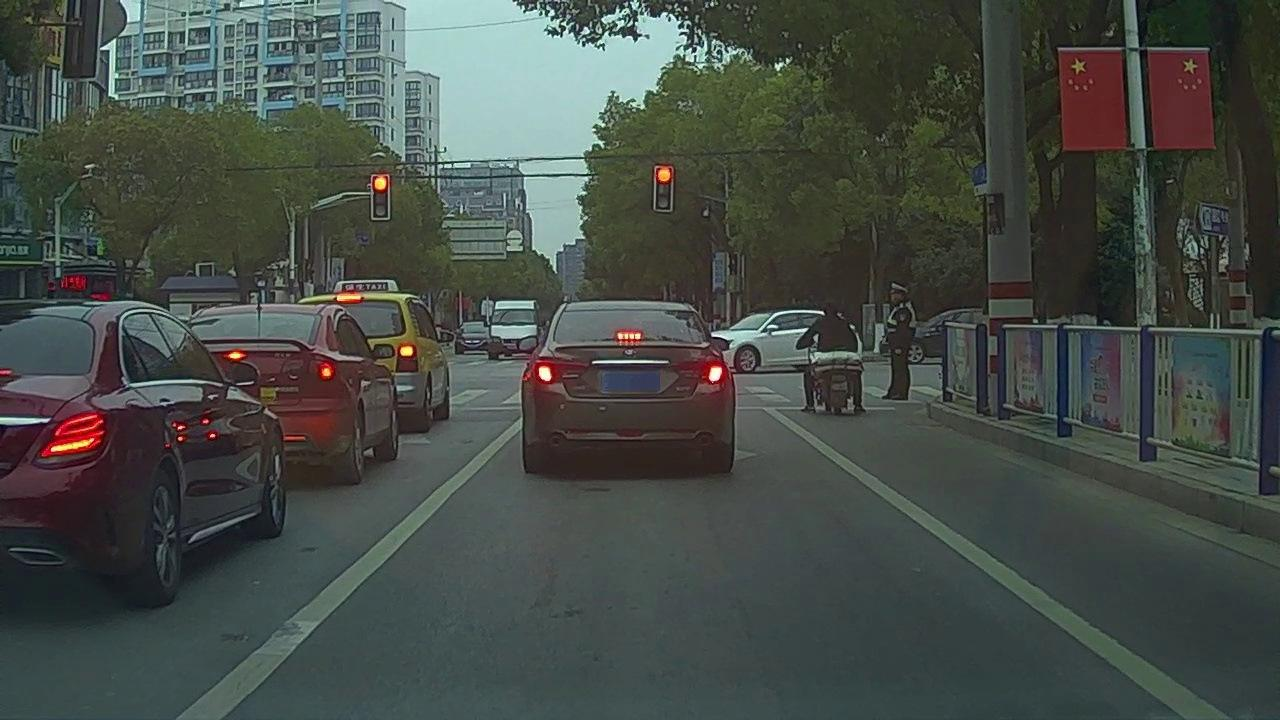traffic_light: (373, 175, 389, 219), (656, 166, 672, 208)
